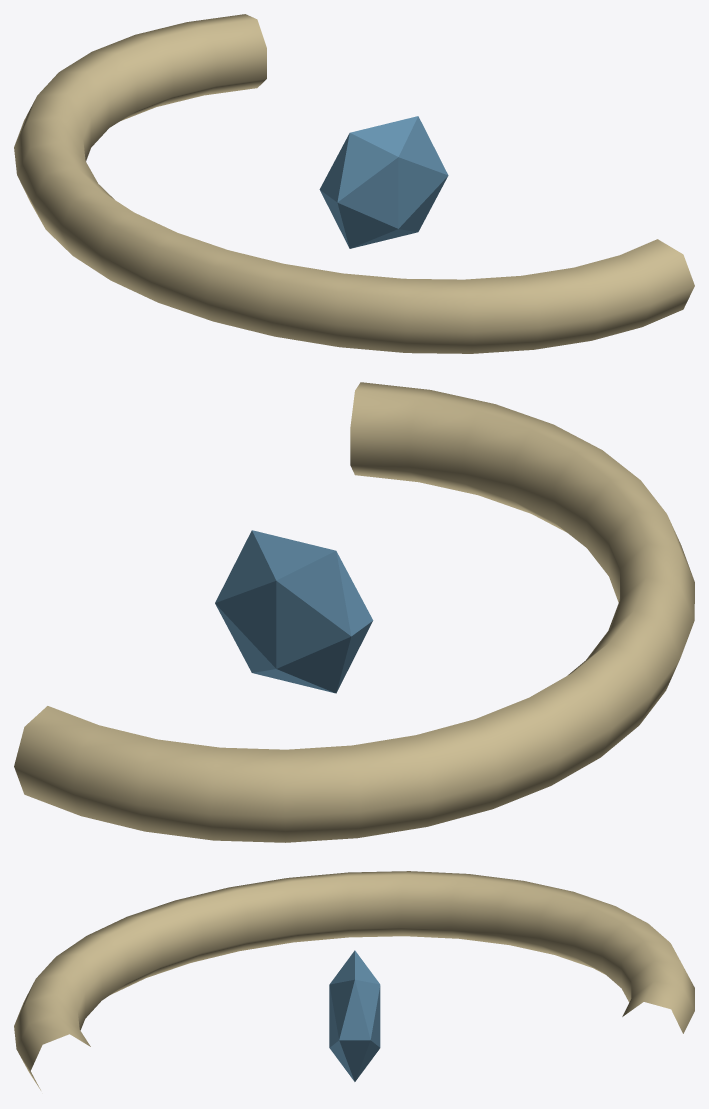
File: wpn_m_08.glb
3 renders of one model, top to bottom at view 1: azimuth 30°, elevation 25°; view 2: azimuth 150°, elevation 25°; view 3: azimuth 270°, elevation 25°, orthographic. The views are drawn at different scales.
Parts seen in each view (by area): view 1: attack_arc, attack_core; view 2: attack_arc, attack_core; view 3: attack_arc, attack_core.
Part boxes in pixels (box(x1,y1,x2,y2)): attack_arc: box(14, 14, 694, 353); attack_core: box(319, 116, 448, 248); attack_arc: box(14, 382, 694, 842); attack_core: box(215, 530, 373, 693); attack_arc: box(14, 871, 694, 1090); attack_core: box(329, 950, 380, 1081).
Bounding box in the file's own units: 0.8075 × 0.2144 × 1.29.
